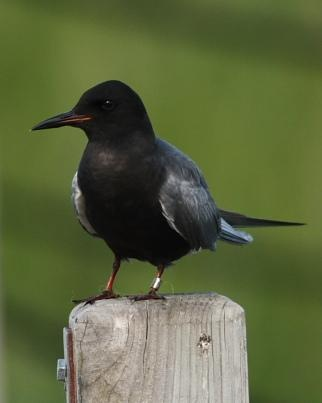bird: (20, 79, 309, 312)
